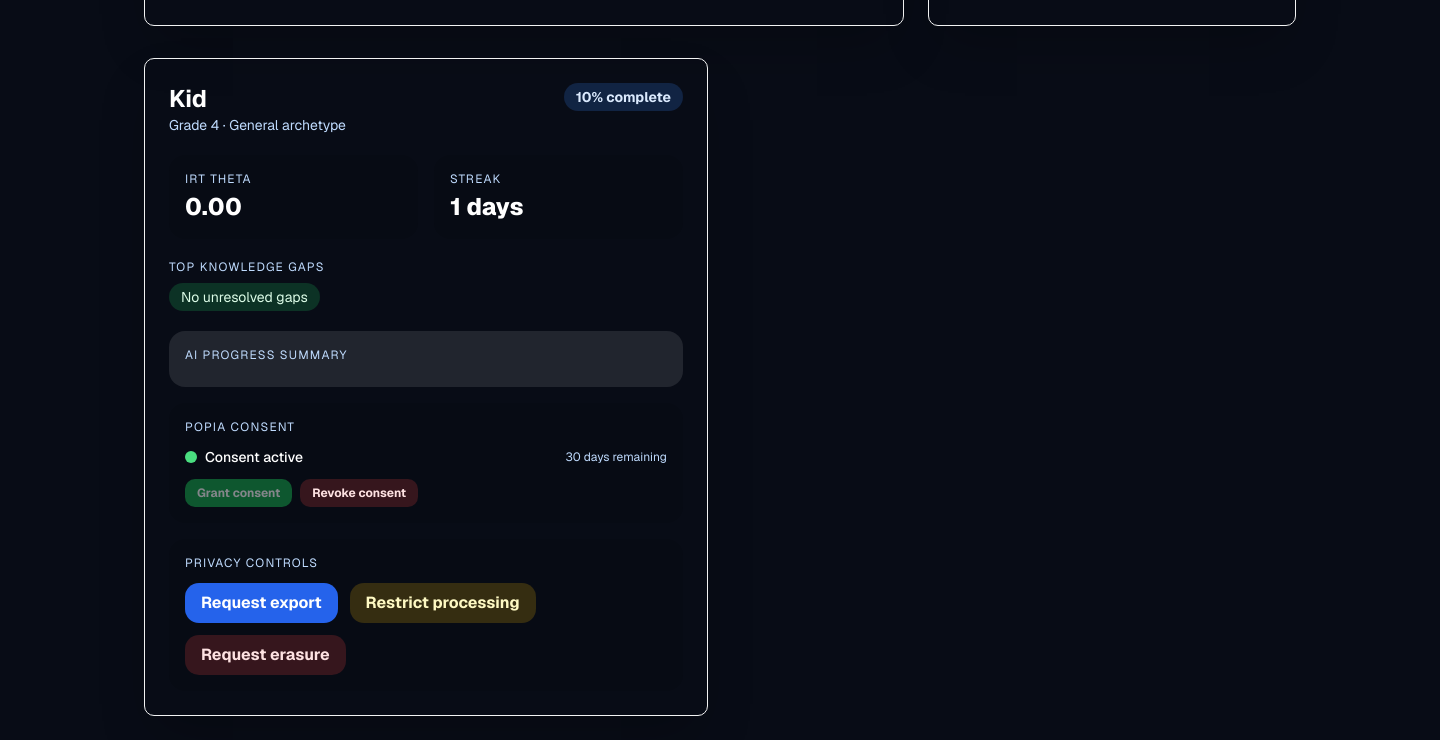
Test: consent revoke updates status
(page scrolled)
Check: the text "Consent active" is shown, box [205,446,303,466]
Click the button "Revoke consent" at (359, 492), box [300,478,418,506]
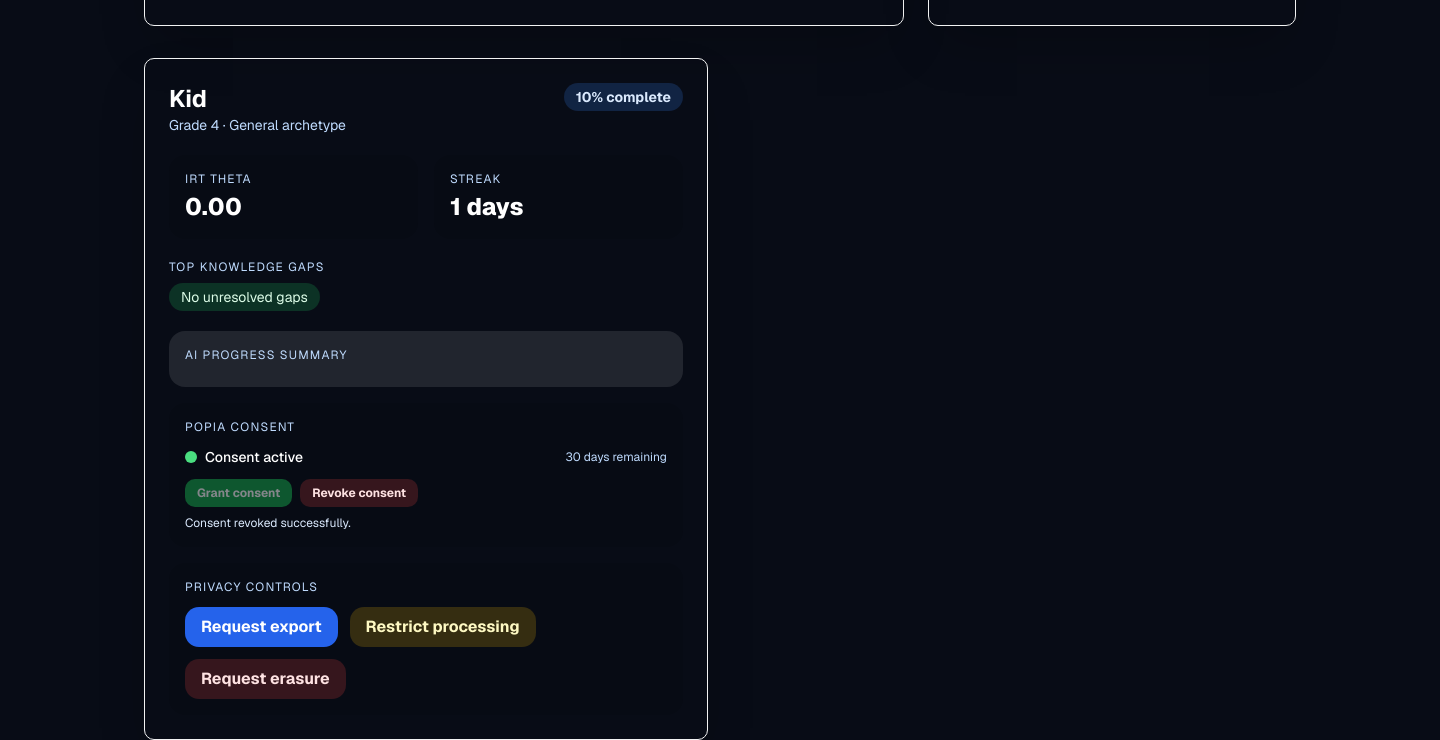
Check: the text "Consent revoked successfully." is shown, box [185,514,351,530]
